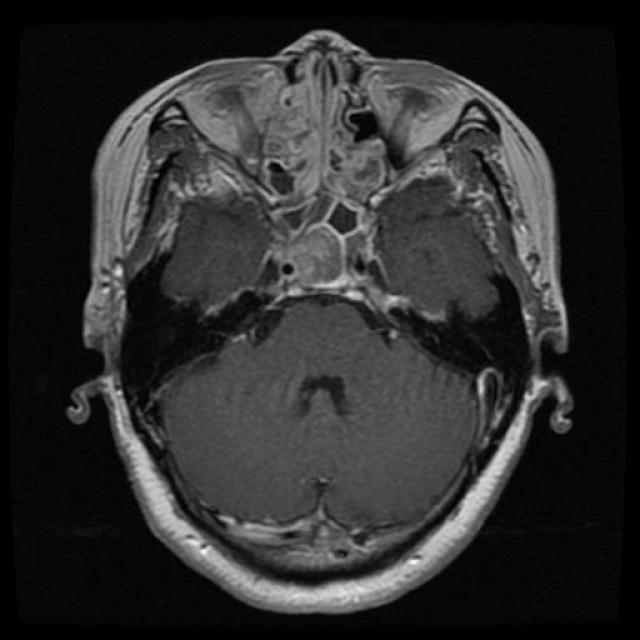pituitary: (271, 222, 374, 316)
